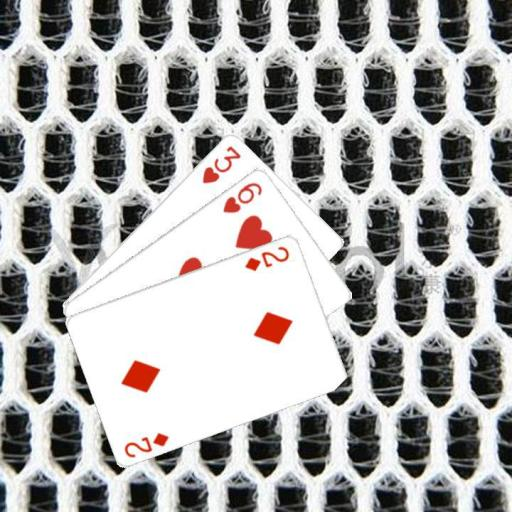2D: (121, 429, 171, 459), (242, 243, 291, 273)
3H: (199, 142, 243, 185)
6H: (220, 178, 264, 215)
